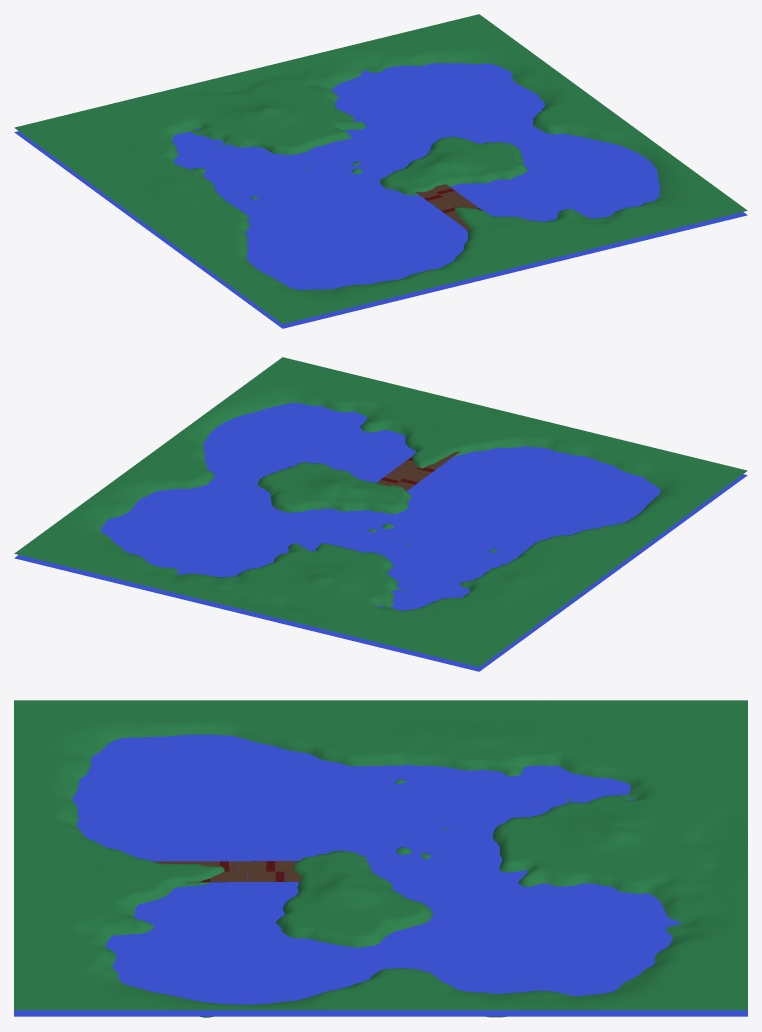
File: scenario.glb
3 renders of one model, top to bottom at view 1: azimuth 30°, elevation 25°; view 2: azimuth 150°, elevation 25°; view 3: azimuth 270°, elevation 25°, orthographic. The views are drawn at different scales.
Parts seen in each view (by area): view 1: Landscape, Landscape_plane, Floor; view 2: Landscape, Landscape_plane, Floor; view 3: Landscape, Landscape_plane, Floor.
Part boxes in pixels (left/top/right/bottom): Landscape: left=14, top=14, right=747, bottom=324; Landscape_plane: left=14, top=63, right=747, bottom=328; Floor: left=415, top=184, right=482, bottom=231; Landscape: left=14, top=357, right=747, bottom=667; Landscape_plane: left=14, top=403, right=747, bottom=671; Floor: left=376, top=451, right=459, bottom=491; Landscape: left=14, top=700, right=747, bottom=1017; Landscape_plane: left=14, top=734, right=747, bottom=1016; Floor: left=153, top=861, right=301, bottom=882.
Size of the model in its own units: 2 by 0.2677 by 2.
